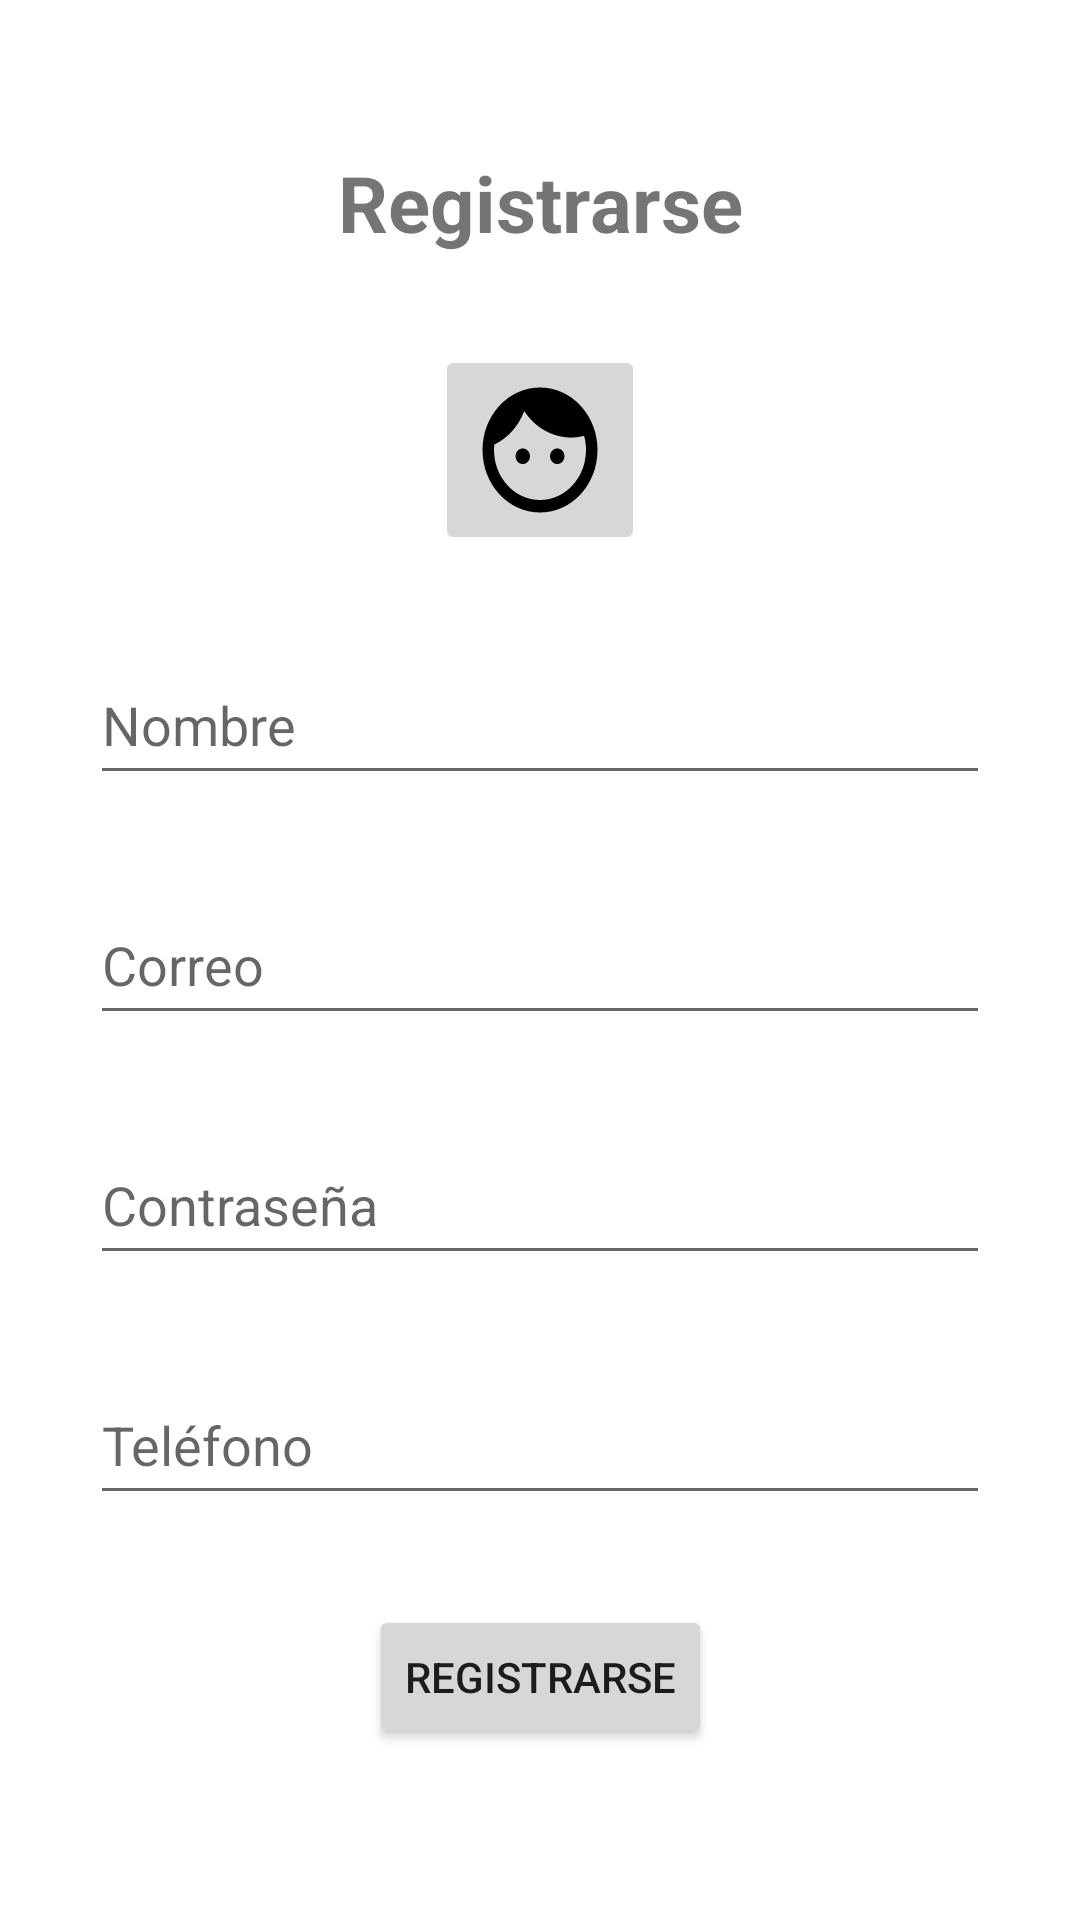

Locate icon controls on the screen. Image size 1080×1920, boxes as region(x1, y1, x2, y2).
face: region(447, 363, 633, 537)
